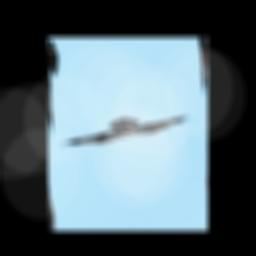Crow: (56, 47, 200, 221)
